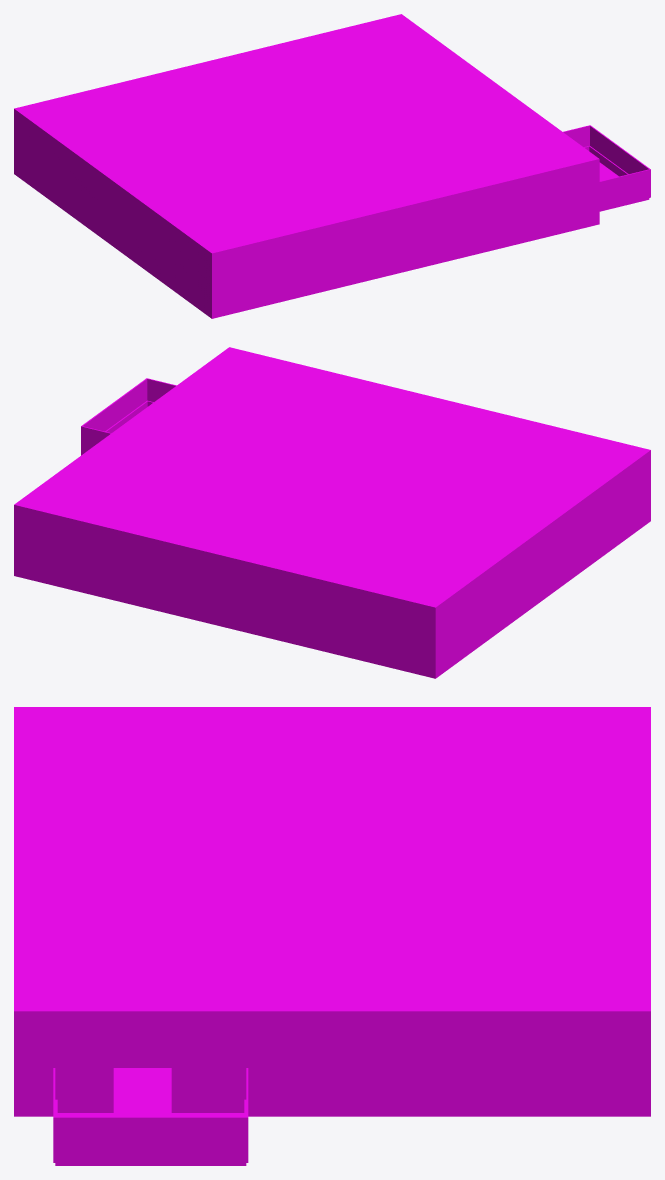
Rendered from Hub_Collision.fbx.
The picture shows the model from 3 angles, top to bottom: view 1: azimuth 30°, elevation 25°; view 2: azimuth 150°, elevation 25°; view 3: azimuth 270°, elevation 25°; orthographic projection. The views are drawn at different scales.
Parts seen in each view (by area): view 1: COL_Ceiling, COL_Wall_S, COL_Wall_W, COL_Floor, COL_TerraceWall_S, COL_TerraceWall_E; view 2: COL_Ceiling, COL_Wall_N, COL_Wall_W, COL_Floor, COL_TerraceWall_E; view 3: COL_Ceiling, COL_Wall_E2, COL_Wall_E1, COL_TerraceWall_E, COL_Floor, COL_Wall_EDoorHead, COL_TerraceFloor.
Part boxes in pixels (x1=…): COL_Ceiling: x1=14, y1=14, x2=599, y2=255; COL_Wall_S: x1=210, y1=161, x2=599, y2=316; COL_Wall_W: x1=15, y1=112, x2=210, y2=315; COL_Floor: x1=14, y1=172, x2=599, y2=318; COL_TerraceWall_S: x1=599, y1=169, x2=650, y2=209; COL_TerraceWall_E: x1=589, y1=125, x2=650, y2=197; COL_Ceiling: x1=14, y1=347, x2=650, y2=609; COL_Wall_N: x1=14, y1=507, x2=436, y2=676; COL_Wall_W: x1=437, y1=454, x2=649, y2=674; COL_Floor: x1=14, y1=519, x2=650, y2=678; COL_TerraceWall_E: x1=81, y1=378, x2=147, y2=455; COL_Ceiling: x1=14, y1=707, x2=650, y2=1015; COL_Wall_E2: x1=171, y1=1015, x2=646, y2=1112; COL_Wall_E1: x1=18, y1=1015, x2=113, y2=1112; COL_TerraceWall_E: x1=53, y1=1117, x2=248, y2=1162; COL_Floor: x1=14, y1=1068, x2=650, y2=1116; COL_Wall_EDoorHead: x1=113, y1=1015, x2=171, y2=1067; COL_TerraceFloor: x1=55, y1=1113, x2=246, y2=1165.
Bounding box in the file's own units: 202 × 28 × 154.
